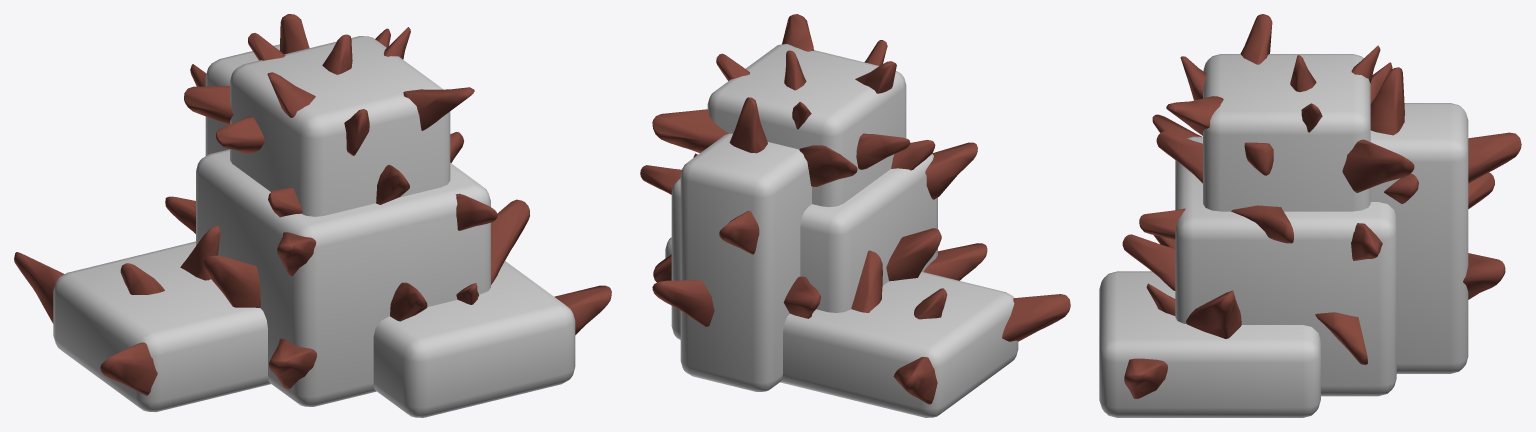
The model's file is MetalOre_01a.fbx.
3 renders of one model, left to right at view 1: azimuth 30°, elevation 25°; view 2: azimuth 150°, elevation 25°; view 3: azimuth 270°, elevation 25°, orthographic. The views are drawn at different scales.
Parts seen in each view (by area): view 1: Cube.007; view 2: Cube.007; view 3: Cube.007.
Boxes of the visible parts, x1,y1,x2,y2 form: Cube.007: (14,14,611,417); Cube.007: (640,14,1070,417); Cube.007: (1099,14,1521,417).
Size of the model in its own units: 349 by 225 by 284.
